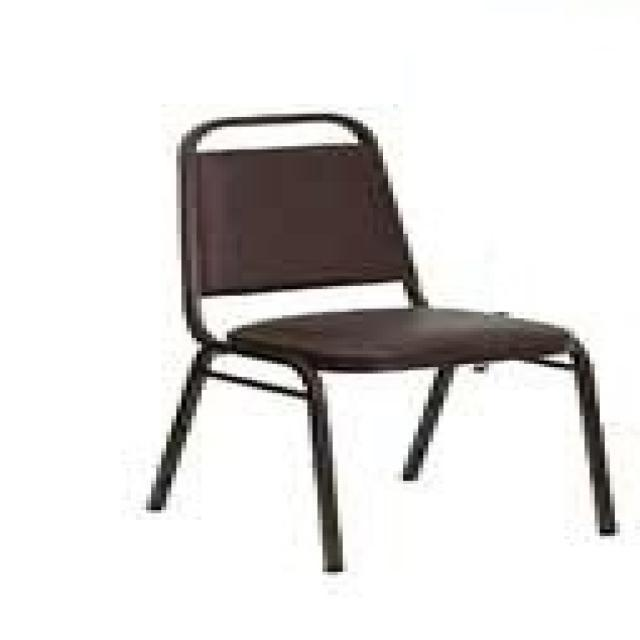chair: (141, 110, 620, 575)
